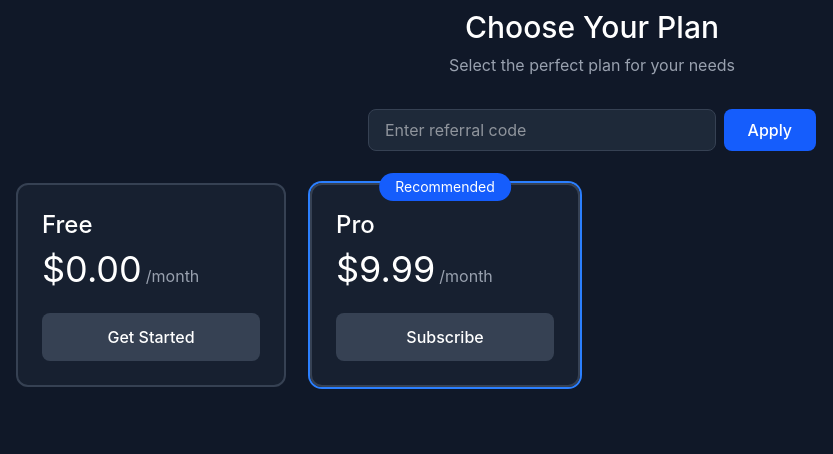
Scenario: PlanSelector › should apply referral code discount
Type "SAVE20" into the field with placeholder "Enter referral code" at point(542, 130), box 368,109 -> 716,151
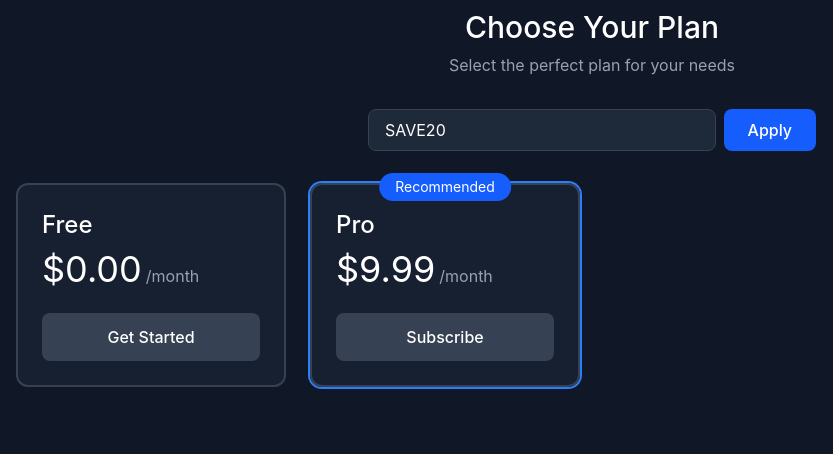
Click the button "Apply" at point(770, 130), box 724,109 -> 816,151
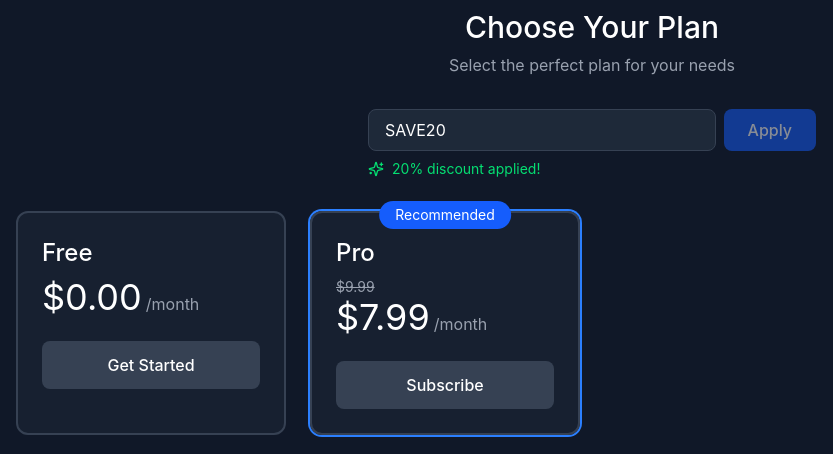
Now the text "20% discount applied!" is shown, box 368,160 -> 540,177
